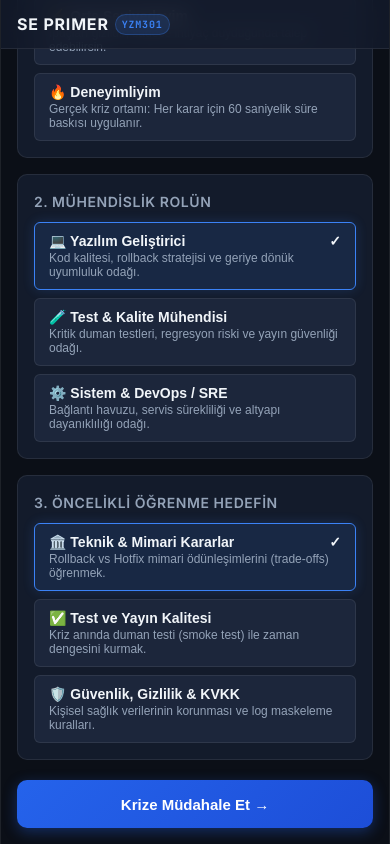
Test: 03 - Oyun Dallanmaları, İki Farklı Son ve Neden-Sonuç Kartları › Tekrarlı ardışık tıklamalarda yarış durumu (race condition) oluşmaz ve buton kilitlenir
(page scrolled)
Click the button with test id "start-crisis-btn" at (195,804), box [17, 780, 373, 828]
(page scrolled)
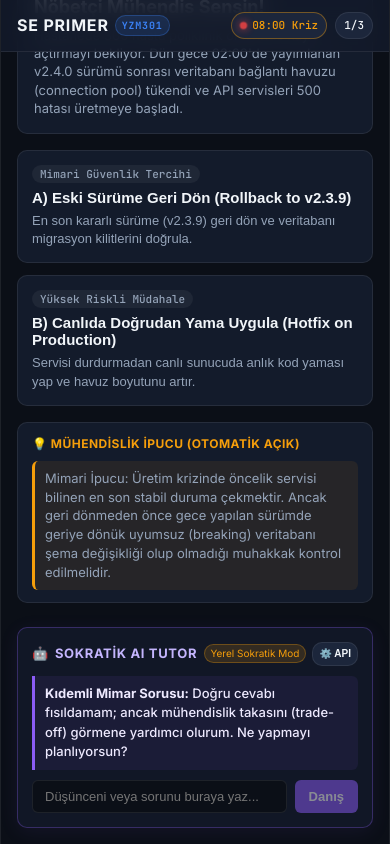
// İlk tıklama yapıldığında buton anında disabled durumuna geçmelidir
Click the button with test id "option-a" at (195,207), box [17, 150, 373, 263]
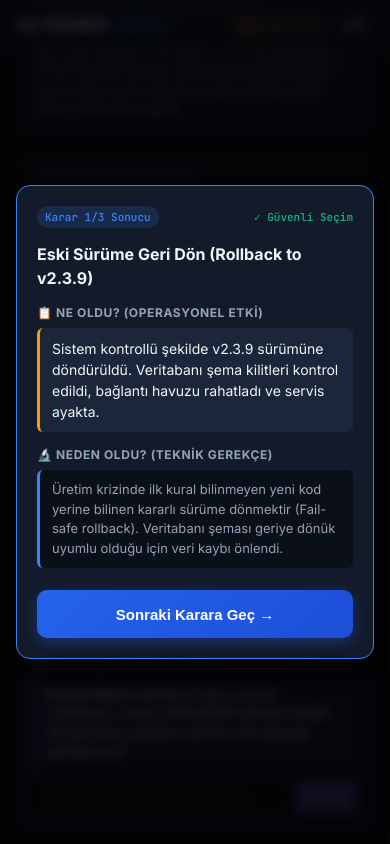
Expected: the number of elements with test id "consequence-card" is 1, [16, 185, 374, 660]
